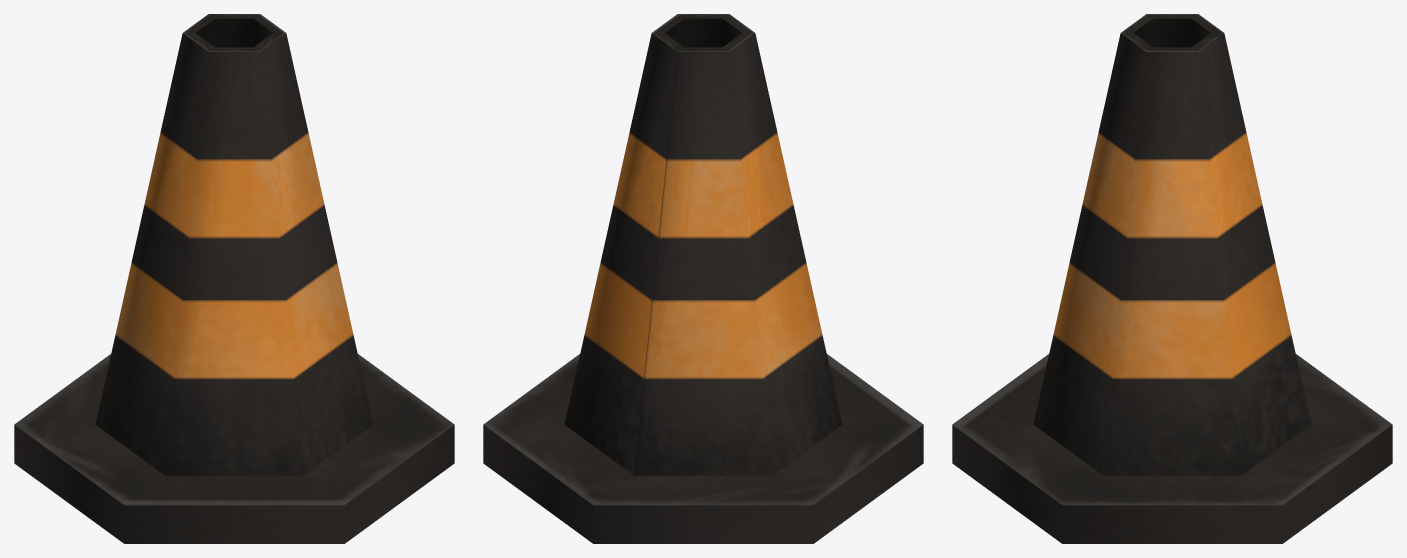
The model's file is jiedao_BJ_011.fbx.
3 renders of one model, left to right at view 1: azimuth 30°, elevation 25°; view 2: azimuth 150°, elevation 25°; view 3: azimuth 270°, elevation 25°, orthographic.
Visible parts, largest first — view 1: BJ011; view 2: BJ011; view 3: BJ011.
Part boxes in pixels (<box>): BJ011: <box>14,14,454,543</box>; BJ011: <box>483,14,923,543</box>; BJ011: <box>952,14,1392,543</box>.
Size of the model in its own units: 35.03 by 40.45 by 43.61.
